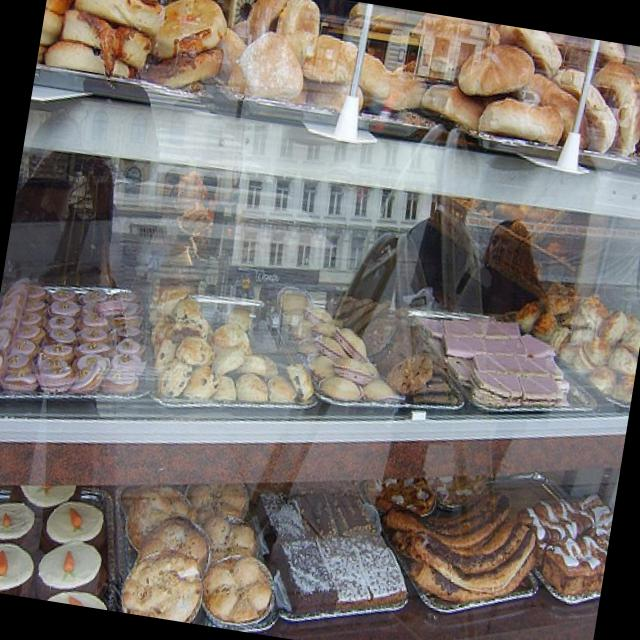cakes: (373, 474, 538, 604), (122, 484, 272, 622), (263, 487, 406, 609), (0, 278, 148, 394), (162, 295, 301, 402), (279, 285, 401, 401), (328, 292, 458, 400), (418, 314, 573, 402), (531, 489, 612, 595)
loaf occluded: (459, 40, 536, 96), (481, 96, 566, 140), (424, 81, 485, 130)
pie: (41, 496, 108, 560), (36, 542, 104, 597), (0, 499, 37, 554), (0, 542, 36, 593)
tray: (367, 470, 541, 614), (488, 467, 613, 601), (0, 484, 118, 608), (459, 372, 598, 410), (313, 382, 468, 410)
tray occluded: (118, 475, 280, 628), (257, 476, 409, 618), (0, 277, 151, 402), (156, 293, 318, 406)
